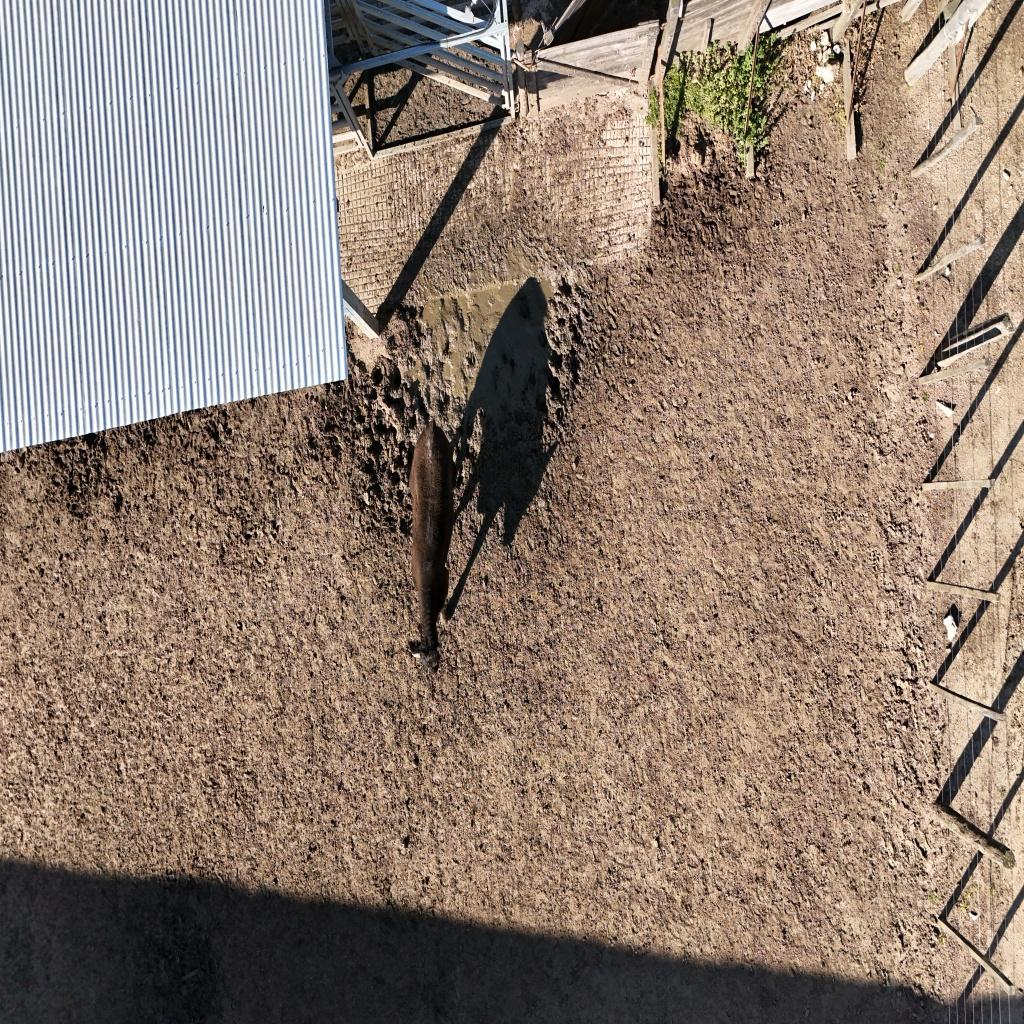cow: (402, 423, 458, 664)
